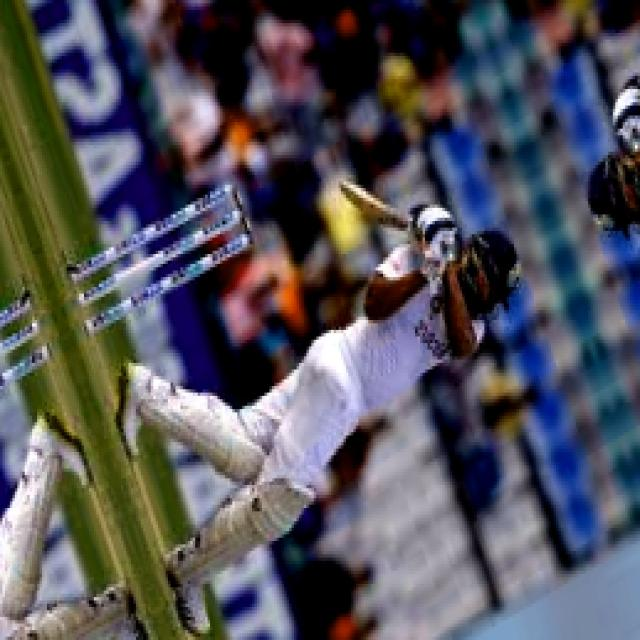toe: (332, 170, 358, 202)
